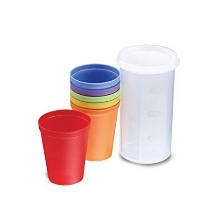glass: (115, 31, 190, 168), (67, 61, 122, 166), (34, 101, 97, 189)
